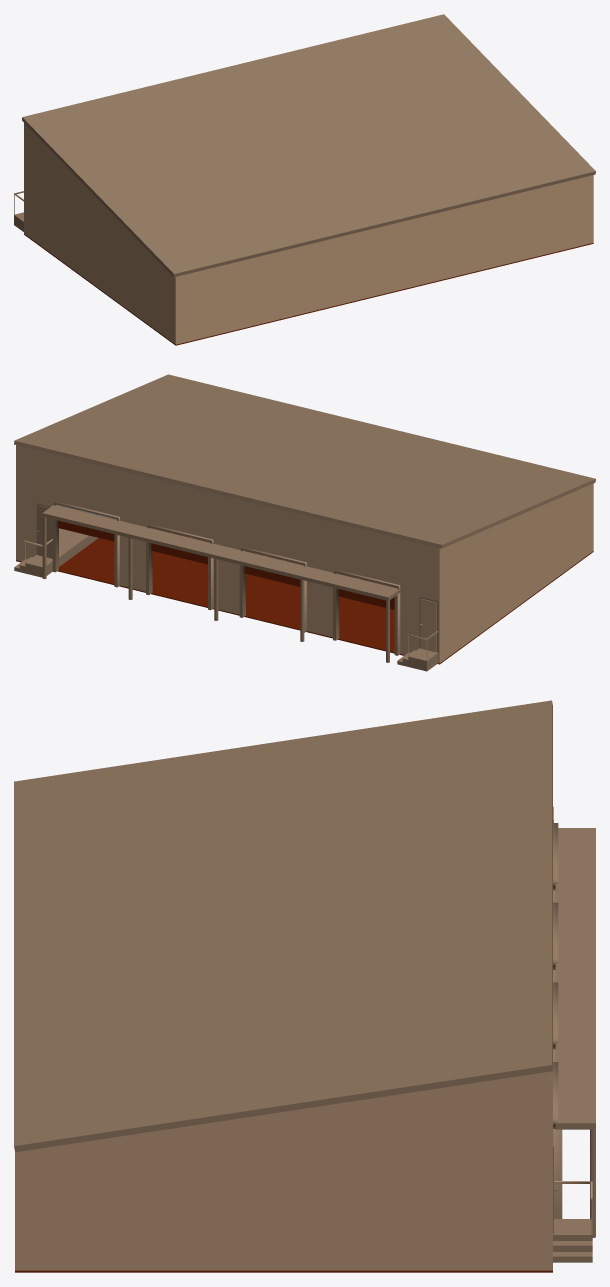
Rendered from Storage Buildings(2).glb.
3 views of the same model, one above another, from view 1: azimuth 30°, elevation 25°; view 2: azimuth 150°, elevation 25°; view 3: azimuth 270°, elevation 25° (orthographic). The views are drawn at different scales.
Visible parts, largest first — view 1: Root; view 2: Root; view 3: Root.
Boxes of the visible parts, box(x1,y1,x2,y2) form: Root: box(14, 14, 595, 345); Root: box(14, 374, 595, 671); Root: box(14, 700, 595, 1272).
Bounding box in the file's own units: 21.73 × 5.82 × 14.66.
